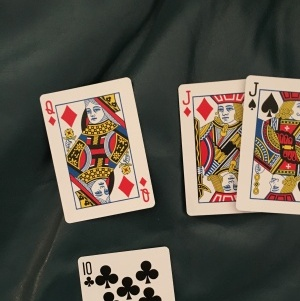card: (39, 76, 156, 225), (177, 79, 246, 219)
